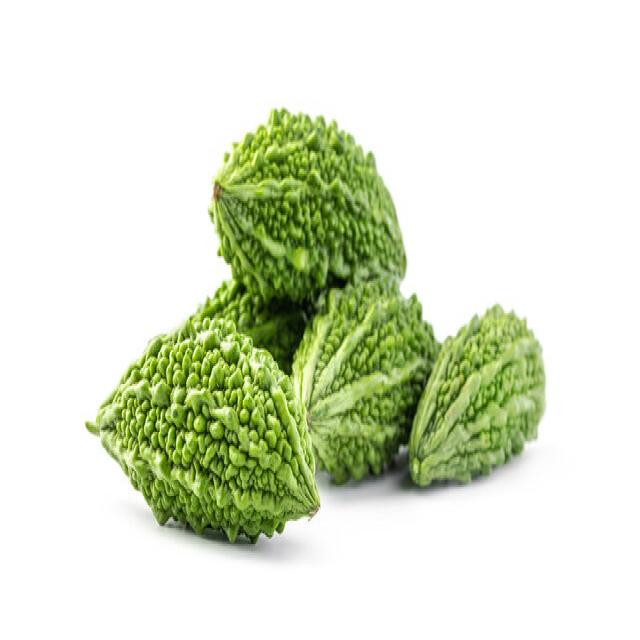Bitter_Gourd: (85, 105, 546, 544)
